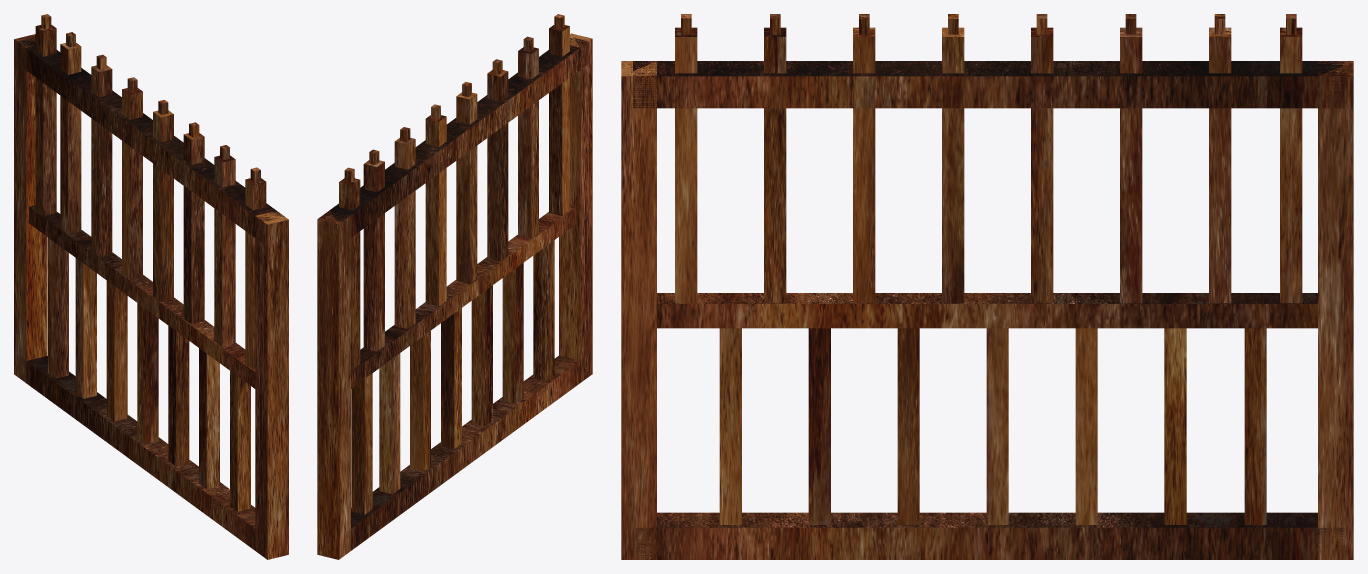
File: gatetextured.obj
The picture shows the model from 3 angles, left to right: view 1: azimuth 30°, elevation 25°; view 2: azimuth 150°, elevation 25°; view 3: azimuth 270°, elevation 25°; orthographic projection. The views are drawn at different scales.
Size of the model in its own units: 0.2 by 3.33 by 4.11.
1 material, 1 textured.
